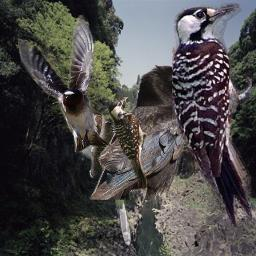Crow: (89, 64, 208, 200)
Cuckoo: (50, 95, 132, 247)
Swallow: (18, 15, 111, 152)
Woodpecker: (172, 3, 252, 227), (108, 97, 156, 191)
